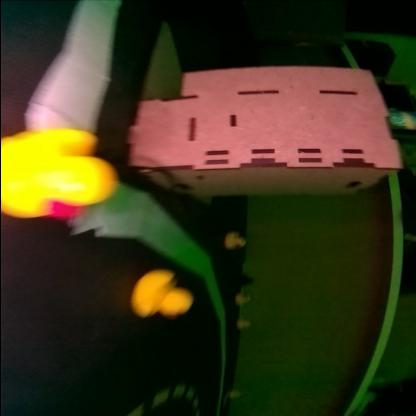Duckie: (3, 132, 115, 218), (136, 272, 192, 318), (226, 234, 245, 249), (238, 296, 249, 306), (237, 321, 249, 329), (232, 393, 240, 397)
